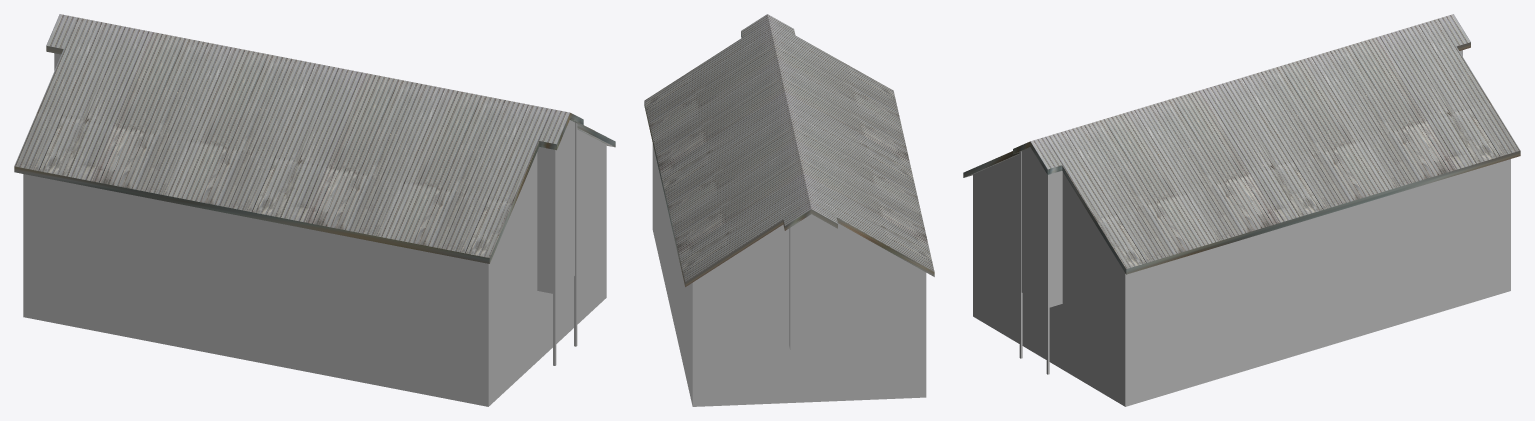
File: SM_GenericBuilding_05.fbx
3 renders of one model, left to right at view 1: azimuth 30°, elevation 25°; view 2: azimuth 150°, elevation 25°; view 3: azimuth 270°, elevation 25°, orthographic. The views are drawn at different scales.
Visible parts, largest first — view 1: SM_GenericBuilding_05; view 2: SM_GenericBuilding_05; view 3: SM_GenericBuilding_05.
Boxes of the visible parts, x1,y1,x2,y2 form: SM_GenericBuilding_05: [14, 14, 615, 406]; SM_GenericBuilding_05: [644, 14, 934, 406]; SM_GenericBuilding_05: [963, 14, 1520, 406].
Size of the model in its own units: 762 by 373 by 834.
